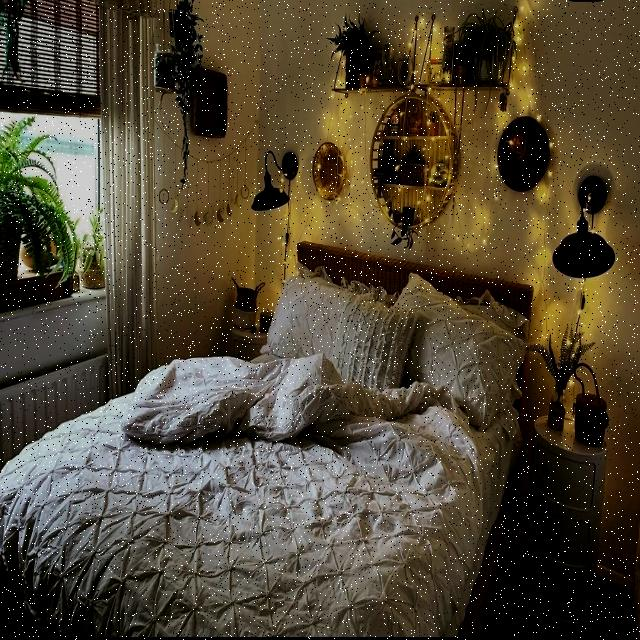bed: (54, 267, 524, 640)
